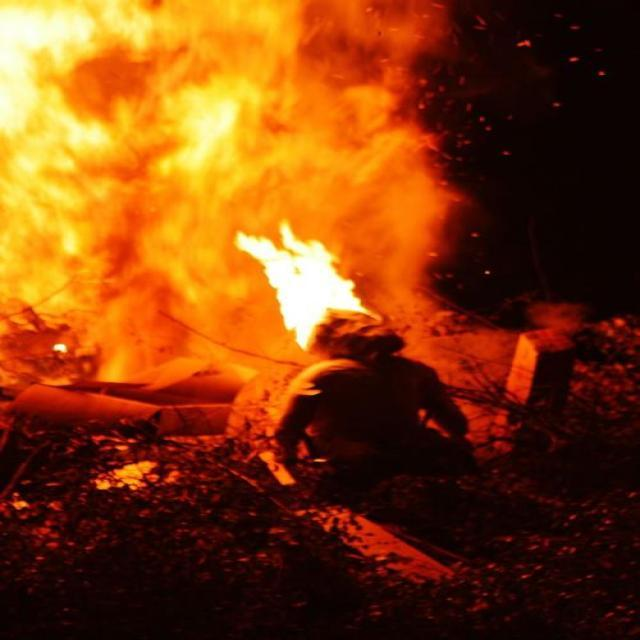Fire: (232, 216, 385, 354)
